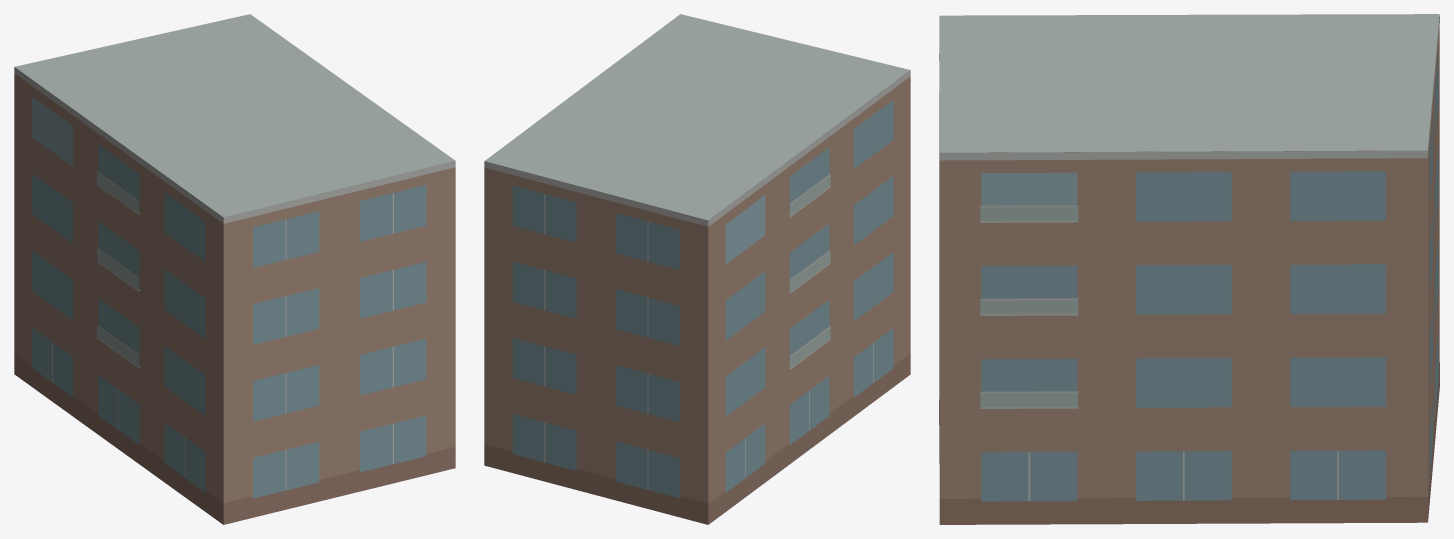
Rendered from survey-upis-32969918.glb.
3 views of the same model, side by side, from view 1: azimuth 30°, elevation 25°; view 2: azimuth 150°, elevation 25°; view 3: azimuth 270°, elevation 25° (orthographic). The views are drawn at different scales.
Visible parts, largest first — view 1: survey-upis-32969918.tmp; view 2: survey-upis-32969918.tmp; view 3: survey-upis-32969918.tmp.
Boxes of the visible parts, left/top/right/bottom form: survey-upis-32969918.tmp: left=14, top=14, right=455, bottom=524; survey-upis-32969918.tmp: left=484, top=14, right=910, bottom=524; survey-upis-32969918.tmp: left=939, top=14, right=1439, bottom=524.
Size of the model in its own units: 9.3 by 11.6 by 14.15.
